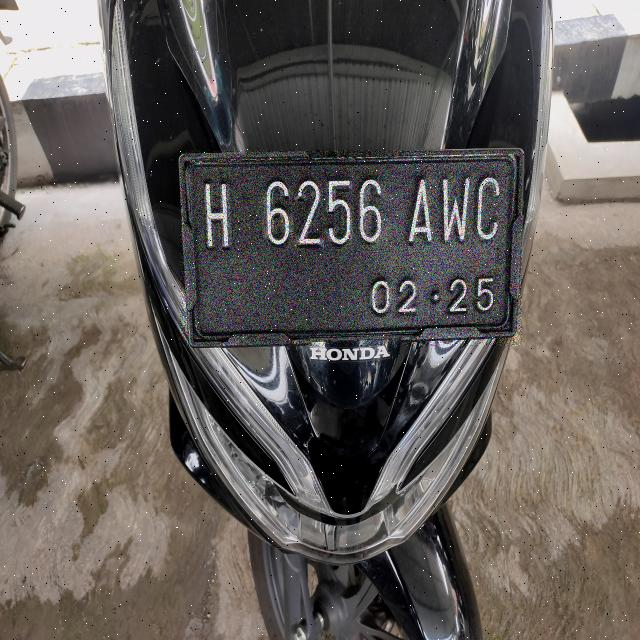plate: (181, 150, 521, 345)
